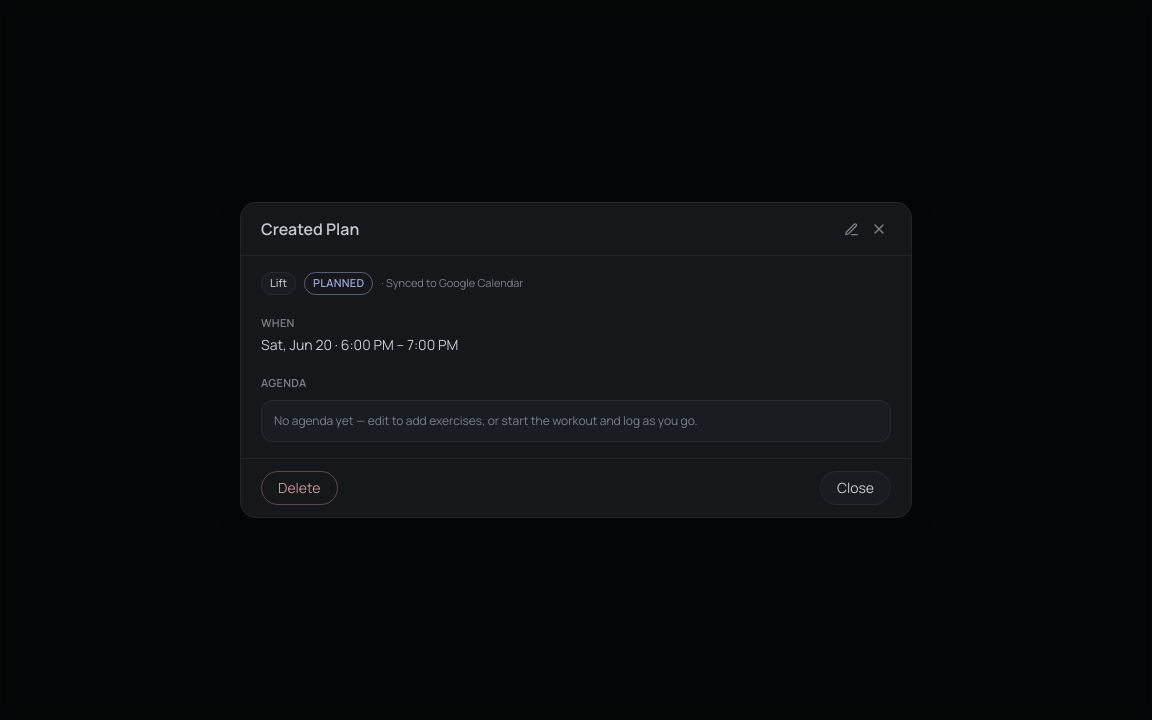
Test case: PlannedWorkoutModal › warns that the Google Calendar event is removed when the plan is synced
Step 1. Click the button "Delete" → coordinates (299, 488), box [261,471,338,505]
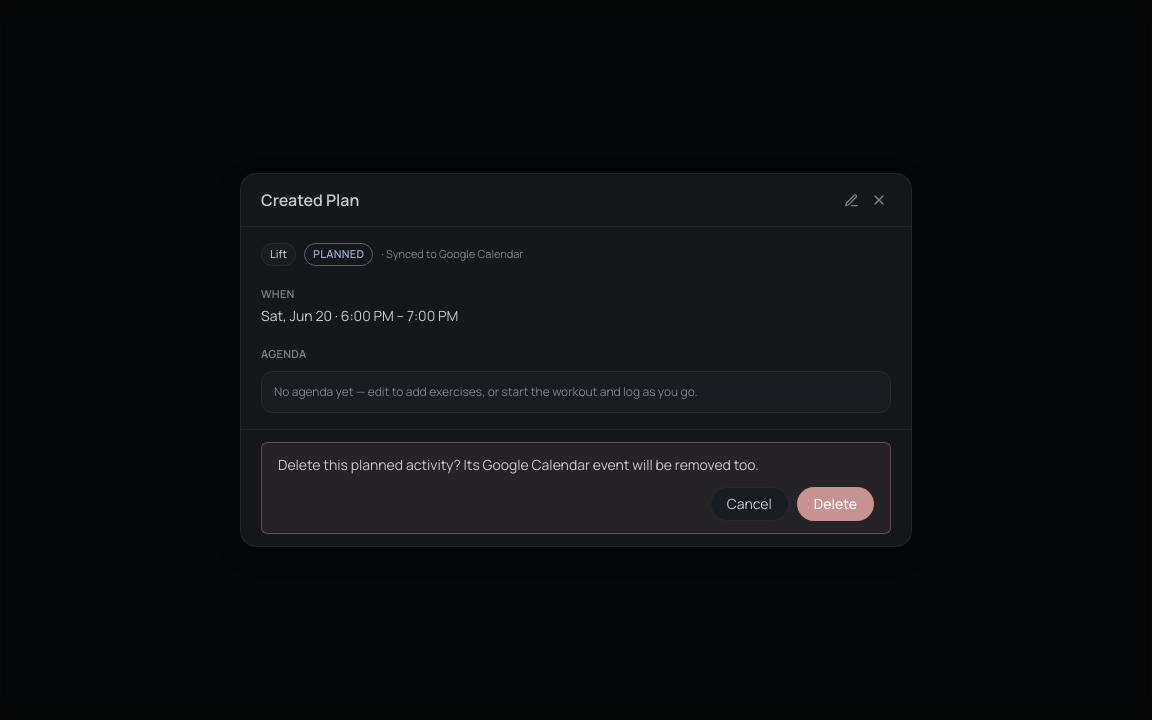
Expected: the text "Google Calendar event" is shown, [461,455,759,474]
